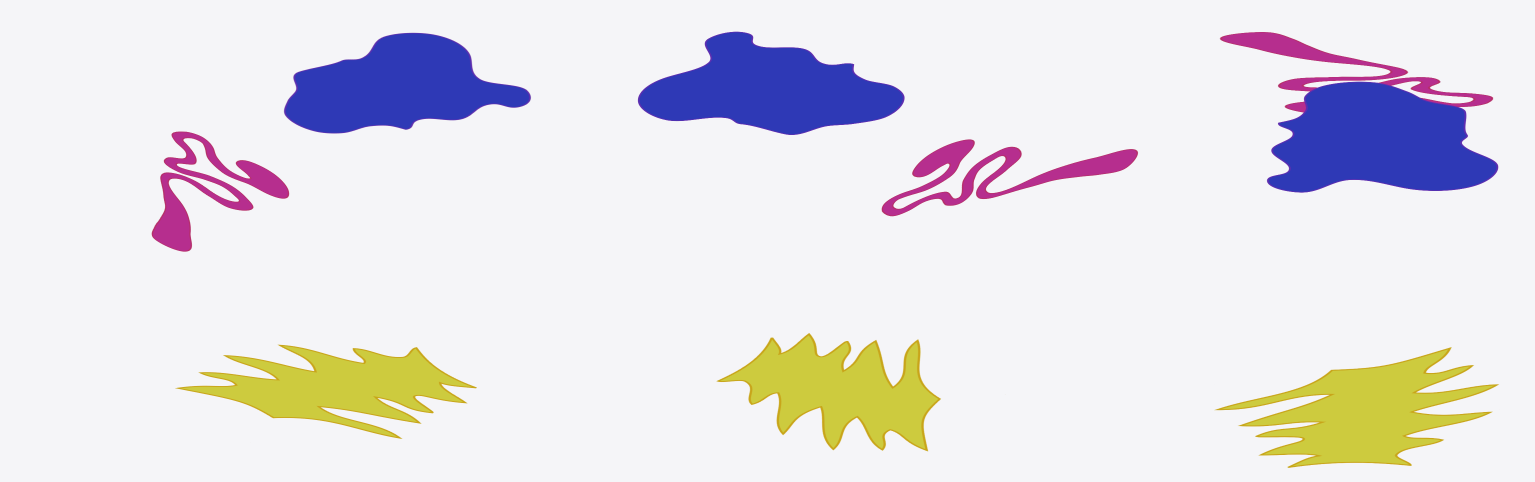
The model's file is Alice_AR_texBuff.glb.
3 renders of one model, left to right at view 1: azimuth 30°, elevation 25°; view 2: azimuth 150°, elevation 25°; view 3: azimuth 270°, elevation 25°, orthographic. The views are drawn at different scales.
Parts seen in each view (by area): view 1: Plane; view 2: Plane; view 3: Plane.
Part boxes in pixels (x1=…): Plane: x1=151, y1=32, x2=530, y2=438; Plane: x1=638, y1=31, x2=1137, y2=451; Plane: x1=1215, y1=32, x2=1498, y2=467.
Size of the model in its own units: 3.8 by 2.36 by 2.16.
3 materials, 3 textured.
